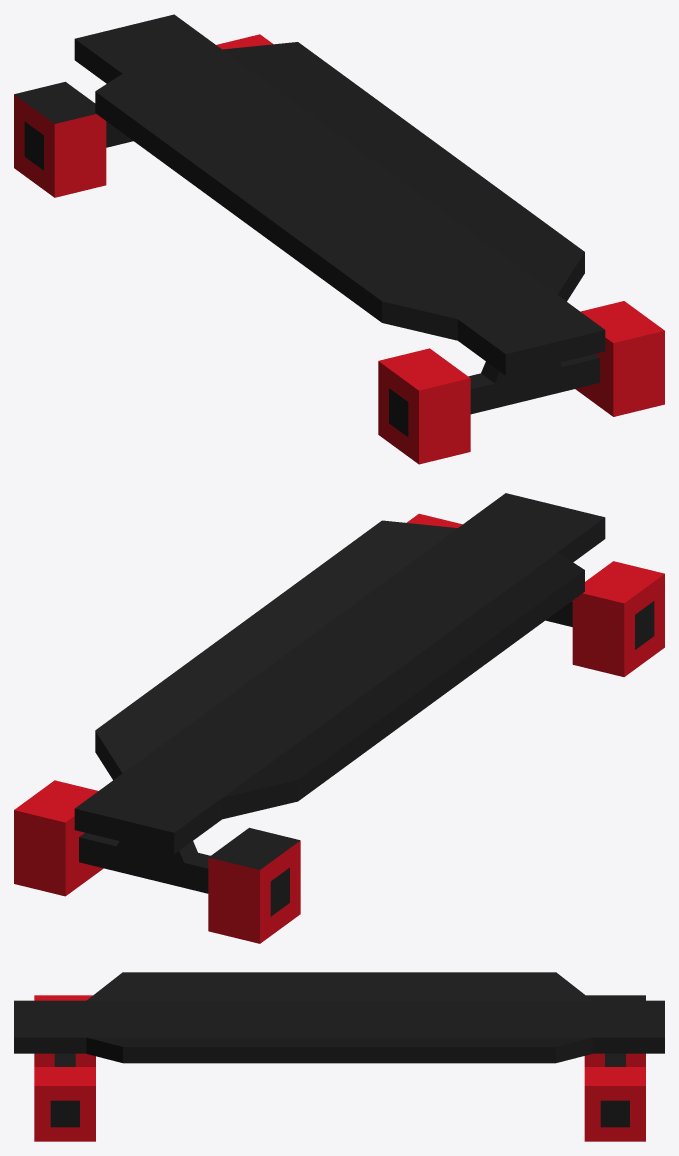
The model's file is longboard4.fbx.
3 views of the same model, one above another, from view 1: azimuth 30°, elevation 25°; view 2: azimuth 150°, elevation 25°; view 3: azimuth 270°, elevation 25° (orthographic). The views are drawn at different scales.
Visible parts, largest first — view 1: Items_Longboard_01; view 2: Items_Longboard_01; view 3: Items_Longboard_01.
Part boxes in pixels (x1,y1,x2,y2): Items_Longboard_01: (14, 14, 664, 464); Items_Longboard_01: (14, 493, 664, 943); Items_Longboard_01: (14, 972, 664, 1141).
Bounding box in the file's own units: 68.21 × 30.49 × 207.
